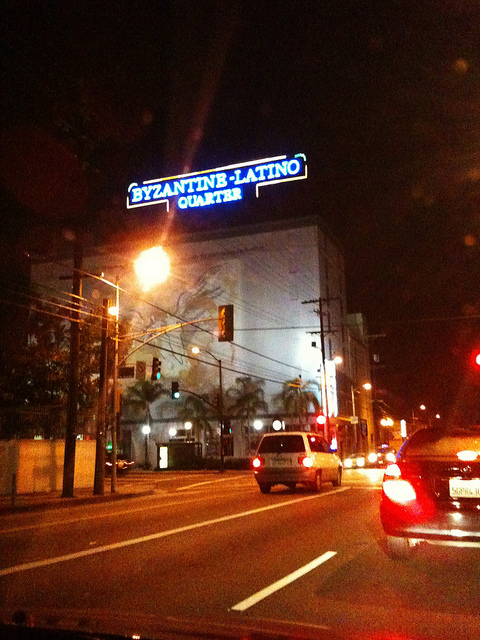car: (374, 416, 479, 570)
